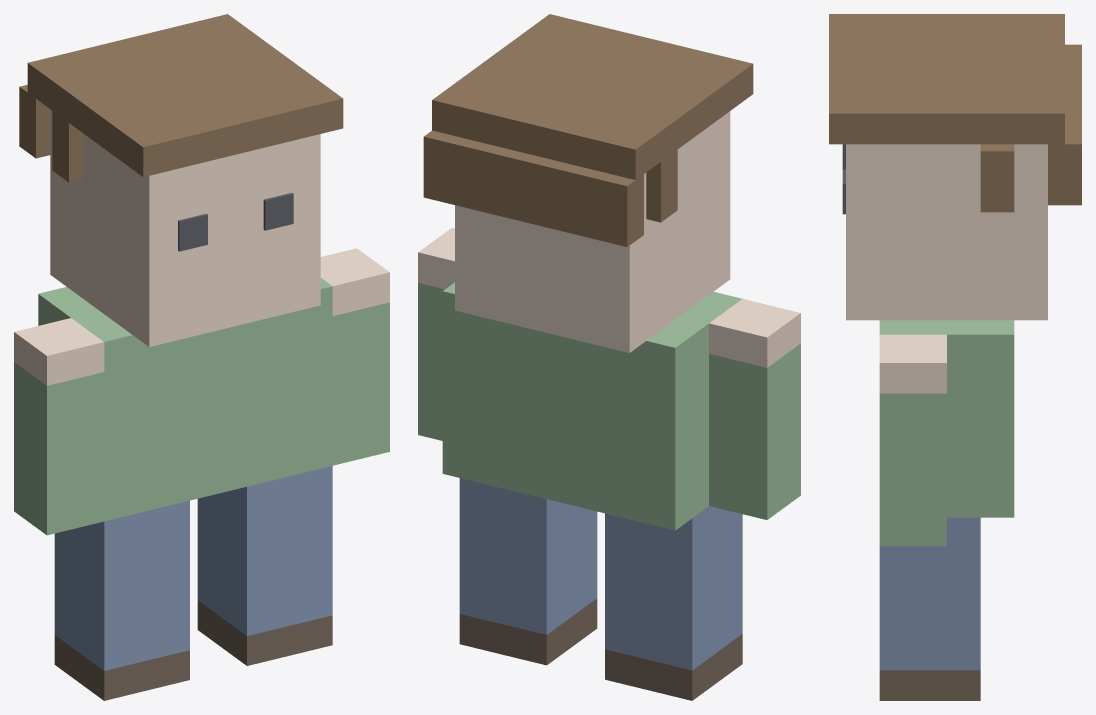
The model's file is 45-Arte3D_jugador_voxel.glb.
3 renders of one model, left to right at view 1: azimuth 30°, elevation 25°; view 2: azimuth 150°, elevation 25°; view 3: azimuth 270°, elevation 25°, orthographic. The views are drawn at different scales.
Visible parts, largest first — view 1: cabeza, torso, pelo_top, pierna_der, pierna_izq, brazo_izq, brazo_der, mano_izq, zapato_der, zapato_izq, mano_der, pelo_nuca (+3 smaller); view 2: torso, pelo_top, cabeza, pierna_izq, pierna_der, pelo_nuca, brazo_izq, mano_izq, zapato_der, zapato_izq, brazo_der, patilla_izq (+1 smaller); view 3: cabeza, pelo_top, torso, pierna_der, brazo_der, mano_der, pelo_nuca, zapato_der, patilla_der.
Boxes of the visible parts, left/top/right/bottom form: cabeza: left=50, top=109, right=320, bottom=346; torso: left=38, top=278, right=332, bottom=521; pelo_top: left=27, top=14, right=343, bottom=177; pierna_der: left=197, top=466, right=332, bottom=635; pierna_izq: left=54, top=500, right=189, bottom=670; brazo_izq: left=14, top=362, right=104, bottom=535; brazo_der: left=332, top=302, right=389, bottom=465; mano_izq: left=14, top=318, right=104, bottom=385; zapato_der: left=197, top=600, right=332, bottom=665; zapato_izq: left=54, top=635, right=189, bottom=700; mano_der: left=320, top=248, right=389, bottom=315; pelo_nuca: left=19, top=84, right=50, bottom=158; torso: left=442, top=282, right=742, bottom=530; pelo_top: left=432, top=14, right=753, bottom=179; cabeza: left=455, top=111, right=730, bottom=352; pierna_izq: left=605, top=506, right=742, bottom=670; pierna_der: left=459, top=478, right=597, bottom=634; pelo_nuca: left=423, top=130, right=643, bottom=246; brazo_izq: left=709, top=343, right=800, bottom=519; mano_izq: left=709, top=299, right=800, bottom=367; zapato_der: left=459, top=598, right=597, bottom=665; zapato_izq: left=605, top=634, right=742, bottom=700; brazo_der: left=418, top=283, right=444, bottom=440; patilla_izq: left=646, top=150, right=677, bottom=222; cabeza: left=846, top=144, right=1047, bottom=320; pelo_top: left=829, top=14, right=1064, bottom=144; torso: left=879, top=320, right=1014, bottom=517; pierna_der: left=879, top=517, right=980, bottom=670; brazo_der: left=879, top=393, right=946, bottom=546; mano_der: left=879, top=334, right=946, bottom=393; pelo_nuca: left=1048, top=44, right=1081, bottom=205; zapato_der: left=879, top=670, right=980, bottom=700; patilla_der: left=980, top=144, right=1014, bottom=212.
Bounding box in the file's own units: 1.2 × 1.9 × 0.75.
